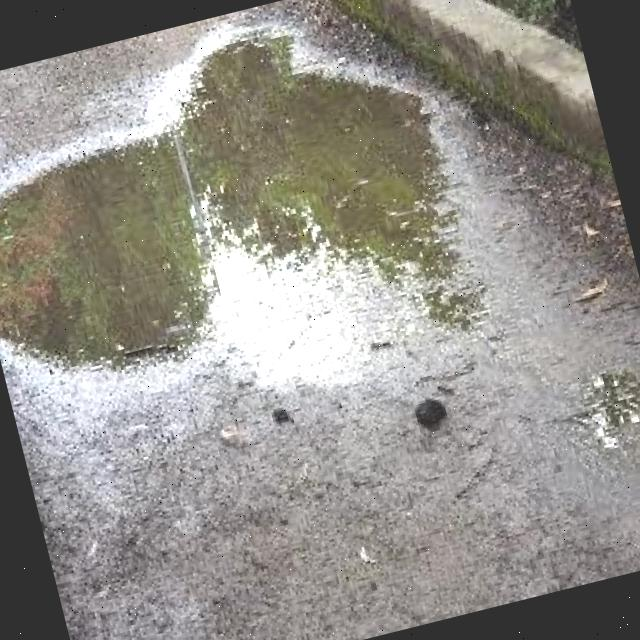stagnation: (0, 20, 502, 398)
